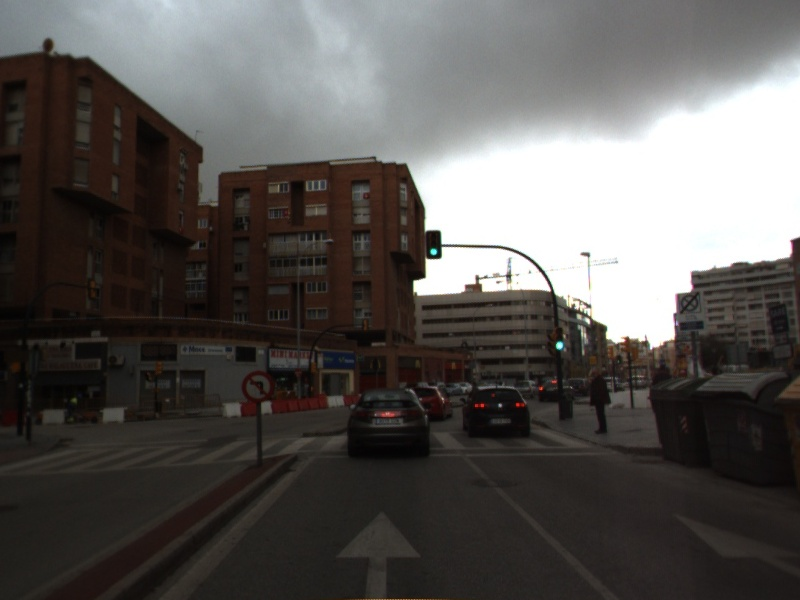STRAIGHT: (669, 507, 800, 583), (330, 507, 425, 600)
